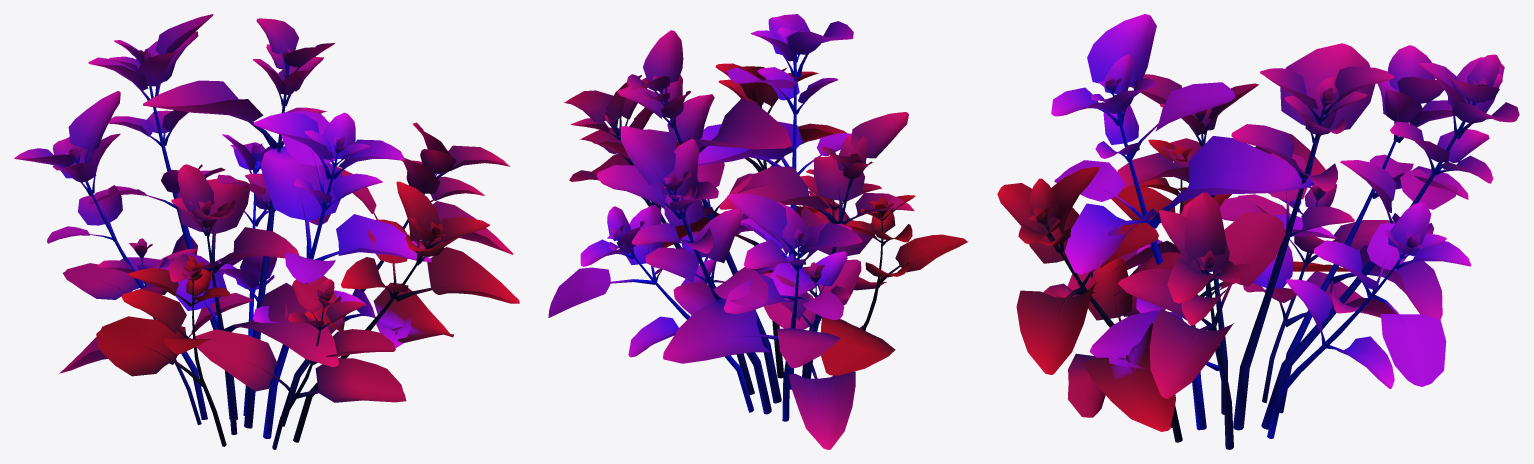
Rendered from Lemon_Balm_umslacdia_Mid_umslacdia_VarD_LOD0.fbx.
3 views of the same model, side by side, from view 1: azimuth 30°, elevation 25°; view 2: azimuth 150°, elevation 25°; view 3: azimuth 270°, elevation 25° (orthographic). The views are drawn at different scales.
Visible parts, largest first — view 1: _r6la_VarD_LOD1; view 2: _r6la_VarD_LOD1; view 3: _r6la_VarD_LOD1.
Part boxes in pixels (x1,y1,x2,y2): _r6la_VarD_LOD1: (14, 14, 519, 449); _r6la_VarD_LOD1: (548, 14, 968, 449); _r6la_VarD_LOD1: (997, 14, 1519, 449).
Size of the model in its own units: 49.05 by 42.31 by 48.51.
